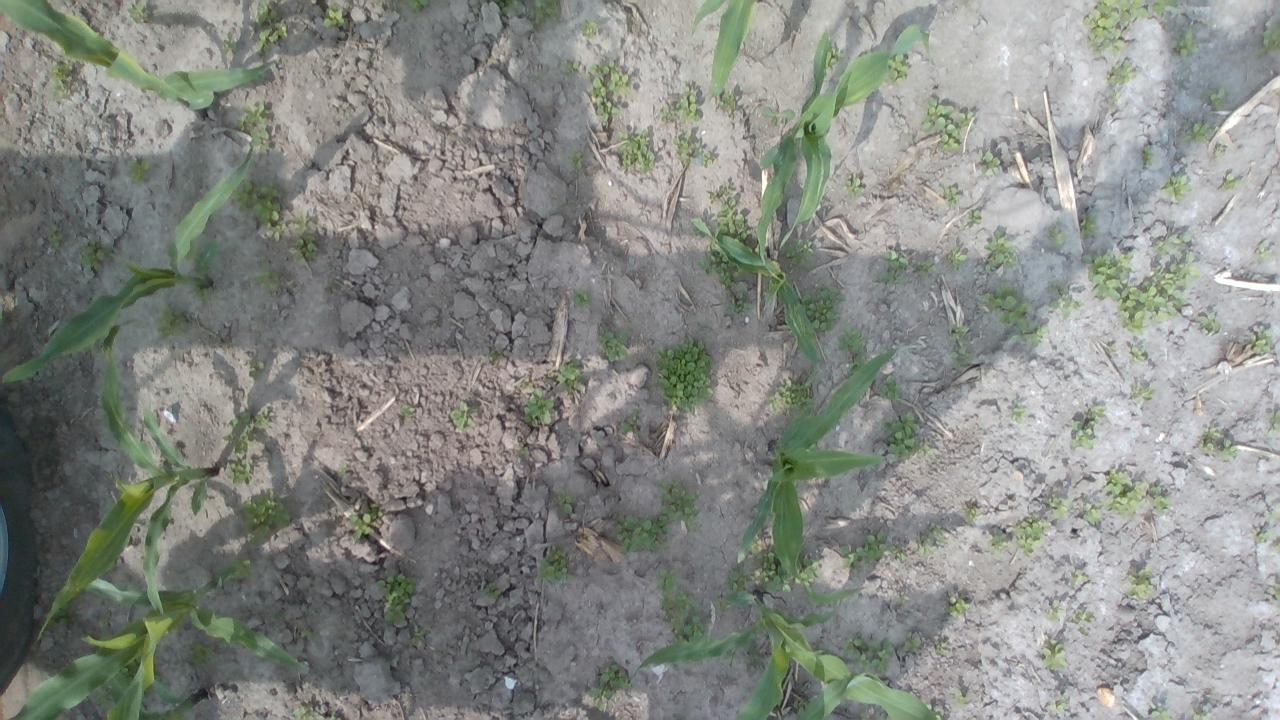Maize: (38, 316, 220, 642), (0, 145, 251, 379), (7, 568, 306, 720), (759, 22, 929, 279), (736, 346, 910, 590), (630, 584, 939, 720), (0, 0, 274, 123), (688, 217, 821, 387), (689, 0, 764, 99), (102, 674, 206, 720)
Weeds: (1122, 253, 1202, 336), (656, 336, 716, 413), (983, 282, 1049, 346), (654, 566, 707, 644), (1083, 0, 1151, 57), (222, 406, 270, 482), (230, 178, 286, 240), (922, 96, 974, 154), (242, 490, 292, 546), (708, 183, 752, 245), (1080, 252, 1134, 302), (586, 60, 628, 122), (884, 411, 935, 461), (587, 656, 632, 711), (660, 478, 704, 530), (375, 572, 417, 626), (841, 635, 896, 676), (800, 284, 846, 333), (839, 532, 896, 570), (1104, 468, 1146, 517), (616, 514, 670, 552), (768, 378, 816, 417), (616, 129, 657, 173), (254, 0, 288, 48), (534, 546, 574, 586), (754, 552, 792, 594), (715, 272, 753, 314), (1070, 405, 1104, 451), (1015, 516, 1051, 558), (598, 322, 634, 364), (234, 103, 270, 144), (982, 230, 1016, 272), (671, 136, 715, 168), (696, 242, 740, 274), (1048, 284, 1086, 321), (947, 324, 977, 369), (664, 88, 701, 124), (522, 389, 556, 426), (1198, 426, 1236, 459), (875, 250, 909, 286), (155, 303, 186, 339), (349, 509, 385, 540), (558, 360, 588, 393), (724, 561, 755, 592), (782, 240, 816, 268), (918, 522, 946, 556), (528, 0, 562, 28), (1041, 637, 1069, 671), (221, 557, 258, 582), (125, 157, 158, 185), (253, 262, 282, 293), (451, 401, 480, 432), (832, 324, 864, 352), (1126, 564, 1152, 598), (186, 638, 220, 664), (79, 241, 108, 271), (882, 54, 910, 85), (47, 64, 72, 98), (1183, 121, 1218, 145), (1154, 231, 1190, 254), (880, 373, 904, 406), (1106, 58, 1136, 84), (289, 238, 317, 265), (796, 557, 822, 586), (1171, 30, 1199, 56), (1164, 176, 1192, 202), (1248, 326, 1274, 354), (762, 106, 795, 128), (1048, 494, 1074, 519), (976, 149, 1000, 176), (1148, 485, 1168, 515), (322, 7, 348, 30), (948, 246, 969, 272), (619, 410, 641, 434), (580, 16, 601, 41), (556, 487, 576, 513), (1261, 22, 1280, 48), (989, 531, 1010, 554), (947, 596, 970, 617), (1199, 312, 1222, 333), (46, 224, 66, 248), (127, 2, 148, 24), (939, 184, 960, 206), (571, 287, 593, 308), (841, 175, 864, 195), (712, 592, 732, 615), (1048, 598, 1066, 622), (1208, 86, 1226, 110), (1045, 693, 1067, 712), (1079, 216, 1098, 238), (718, 90, 738, 110), (903, 636, 925, 654), (1084, 503, 1101, 526), (1152, 0, 1178, 15), (953, 686, 968, 712), (1048, 224, 1064, 248), (1222, 173, 1241, 193), (296, 627, 321, 642), (850, 351, 866, 374), (824, 48, 842, 68), (568, 148, 584, 170), (1128, 344, 1147, 362), (57, 606, 74, 626), (1010, 400, 1026, 421), (294, 214, 310, 235), (1075, 610, 1096, 626), (193, 286, 211, 304), (222, 39, 240, 57), (917, 258, 937, 274), (501, 0, 522, 15), (1071, 569, 1089, 586), (1255, 244, 1273, 261), (1267, 409, 1280, 432), (248, 360, 264, 378), (408, 0, 431, 12), (1134, 386, 1152, 401), (966, 210, 983, 225), (1255, 530, 1273, 544), (562, 61, 581, 74), (1150, 708, 1170, 720), (292, 704, 307, 720), (1266, 507, 1280, 524), (484, 582, 498, 598), (1267, 584, 1280, 600), (400, 404, 417, 416), (965, 507, 977, 522), (894, 550, 909, 562), (270, 610, 284, 622), (1213, 144, 1225, 158), (414, 628, 426, 642), (488, 350, 502, 361), (338, 462, 347, 479), (1191, 712, 1210, 720), (534, 71, 547, 82), (895, 591, 909, 601), (1142, 146, 1152, 160), (125, 266, 136, 278), (750, 543, 761, 554), (934, 643, 946, 653), (1112, 92, 1120, 100), (326, 715, 338, 720), (87, 632, 97, 638)
